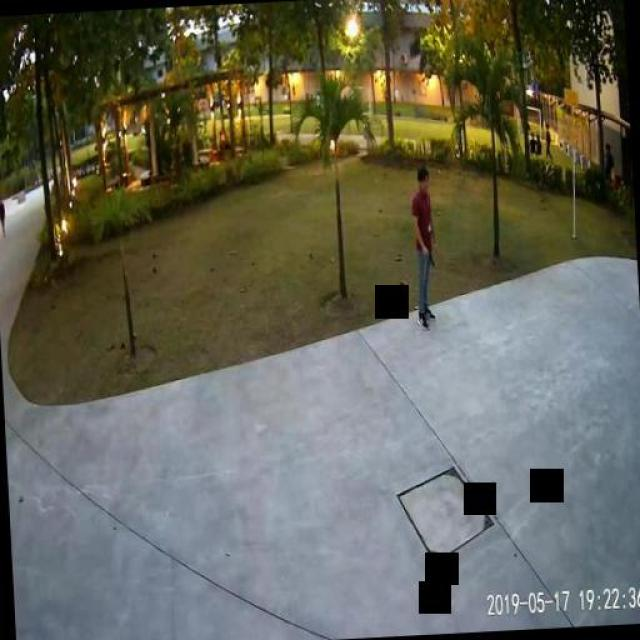gun: (422, 245, 432, 267)
